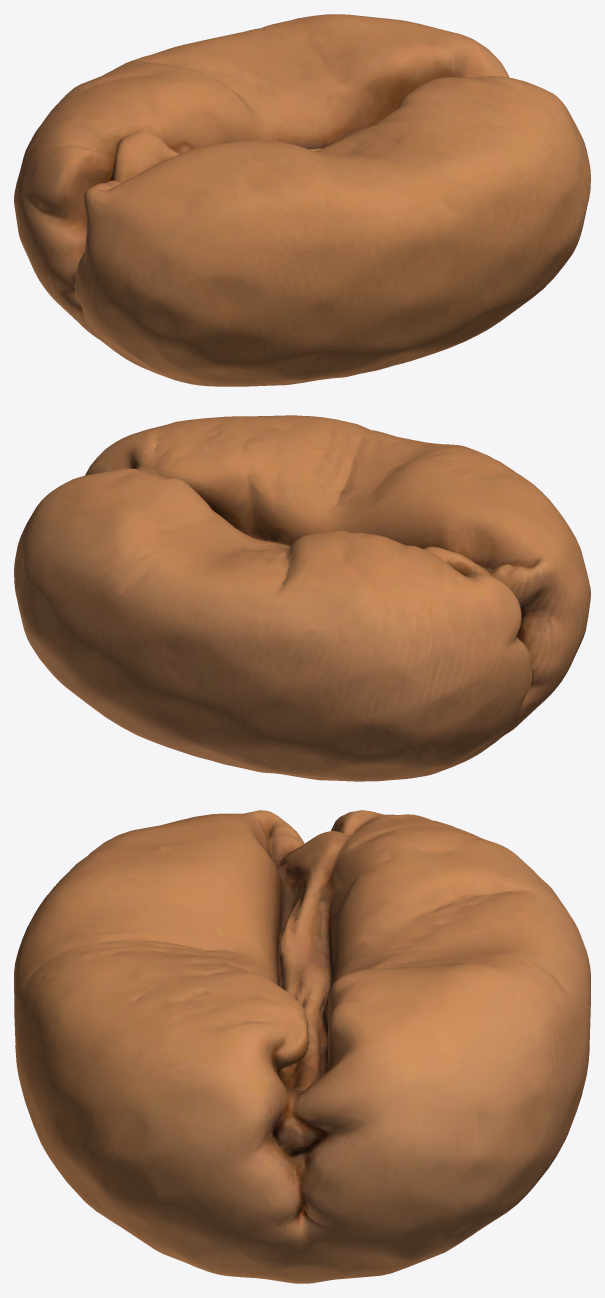
File: bean2.glb
The picture shows the model from 3 angles, top to bottom: view 1: azimuth 30°, elevation 25°; view 2: azimuth 150°, elevation 25°; view 3: azimuth 270°, elevation 25°; orthographic projection. The views are drawn at different scales.
Size of the model in its own units: 1.9 by 0.9764 by 1.6.
Materials: 1 (1 with a texture image).
